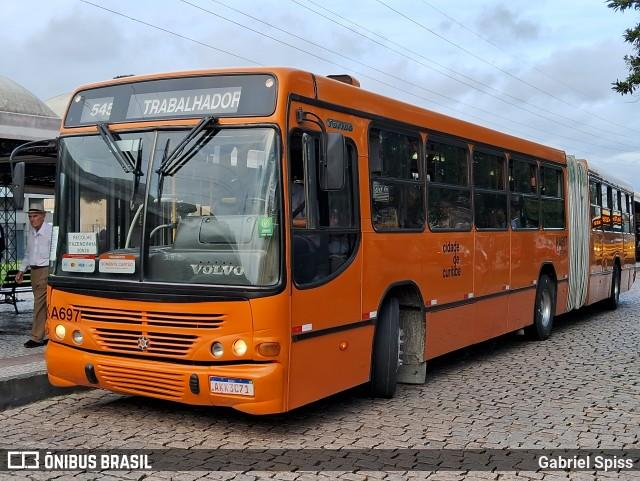TRABALHADOR: (135, 86, 245, 119)
